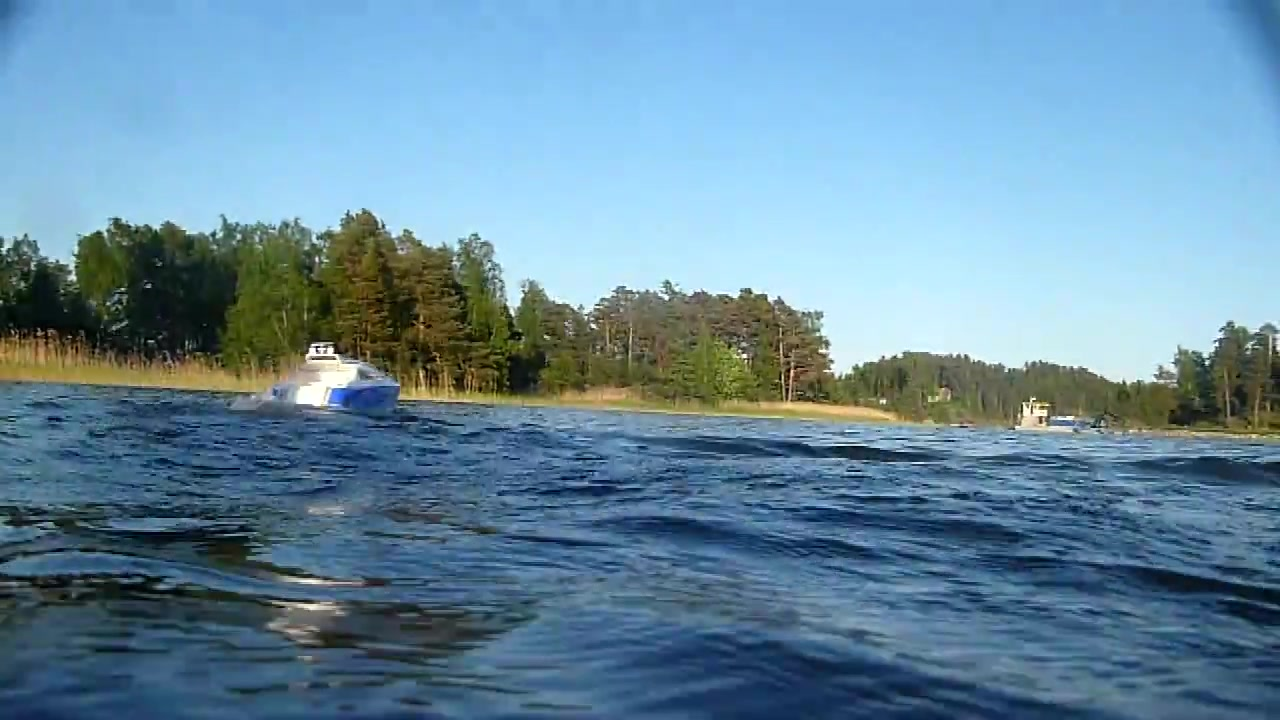boat: (288, 342, 402, 421)
